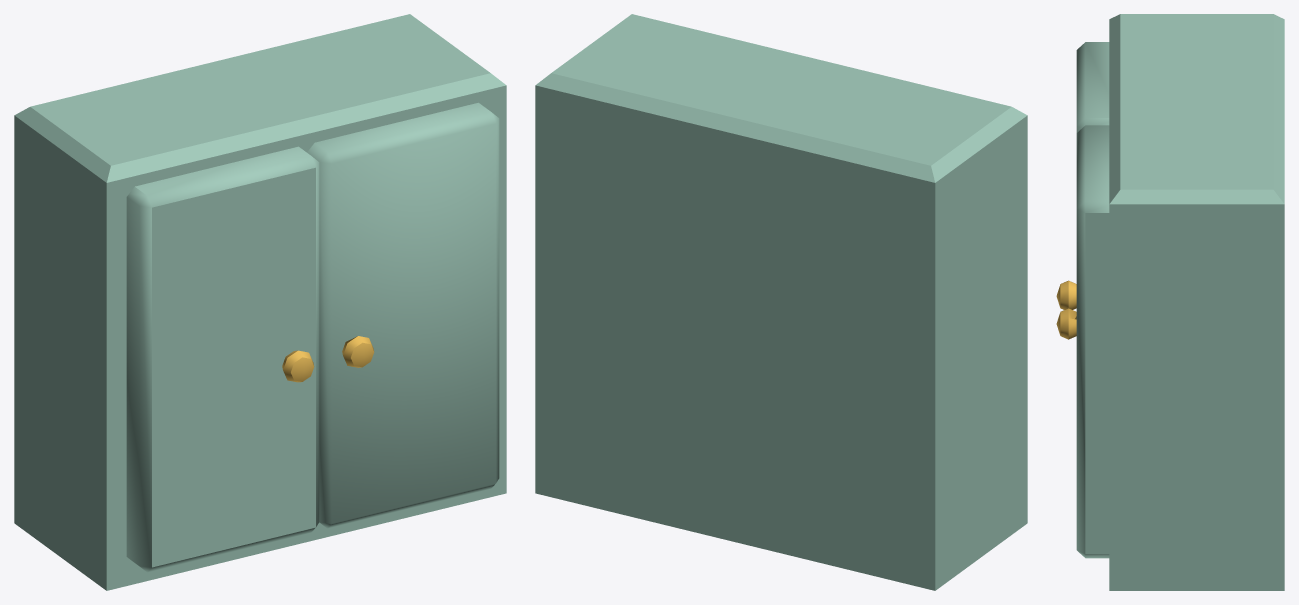
Rendered from cabinet.obj.
3 views of the same model, side by side, from view 1: azimuth 30°, elevation 25°; view 2: azimuth 150°, elevation 25°; view 3: azimuth 270°, elevation 25° (orthographic). The views are drawn at different scales.
Visible parts, largest first — view 1: kitchencabinet_Cube.220; view 2: kitchencabinet_Cube.220; view 3: kitchencabinet_Cube.220.
Boxes of the visible parts, x1,y1,x2,y2 form: kitchencabinet_Cube.220: (14,14,506,590); kitchencabinet_Cube.220: (535,14,1027,590); kitchencabinet_Cube.220: (1056,14,1284,590).
Size of the model in its own units: 2 by 2 by 1.04.
